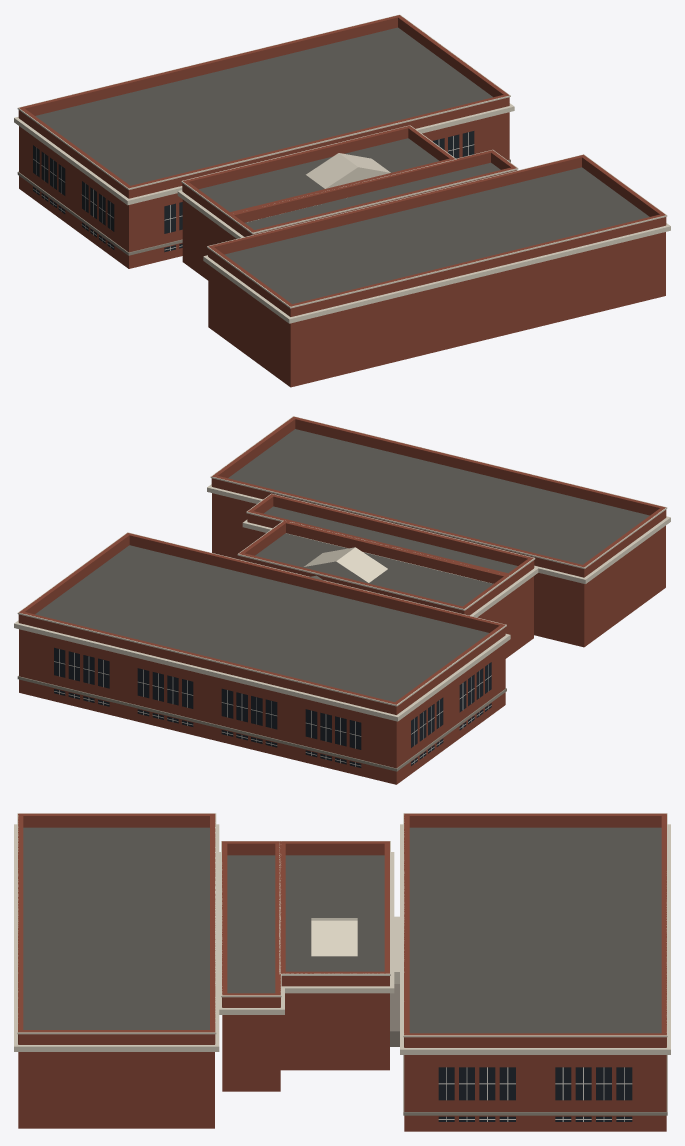
File: east-end-school-1913.glb
3 views of the same model, one above another, from view 1: azimuth 30°, elevation 25°; view 2: azimuth 150°, elevation 25°; view 3: azimuth 270°, elevation 25° (orthographic). The views are drawn at different scales.
Visible parts, largest first — view 1: kit-east-end-school-1913; view 2: kit-east-end-school-1913; view 3: kit-east-end-school-1913.
Part boxes in pixels (bbox=[...]): kit-east-end-school-1913: bbox=[14, 14, 670, 387]; kit-east-end-school-1913: bbox=[14, 416, 670, 784]; kit-east-end-school-1913: bbox=[14, 813, 670, 1131].
Size of the model in its own units: 36.6 by 7.6 by 45.1.
